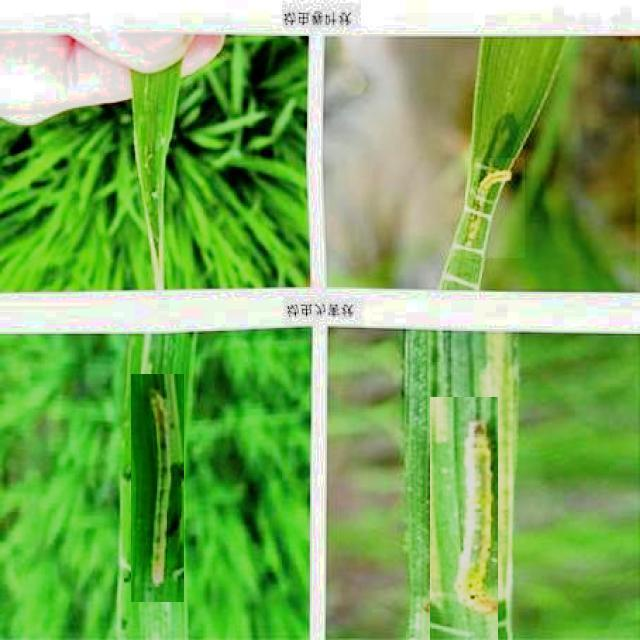leaf-folder: (430, 397, 498, 640), (131, 374, 184, 602), (466, 158, 526, 258)
